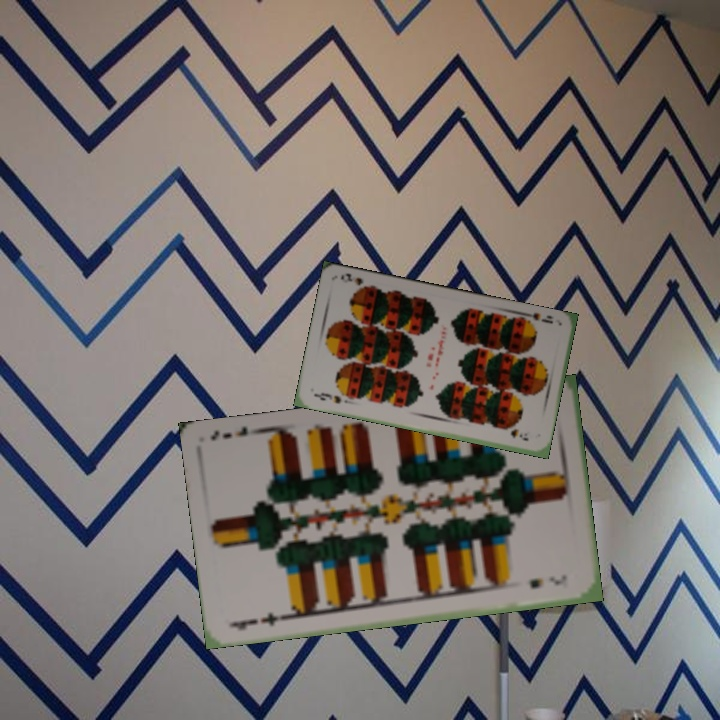E7: (228, 609, 287, 633)
S9: (519, 308, 556, 328), (310, 389, 344, 406)
